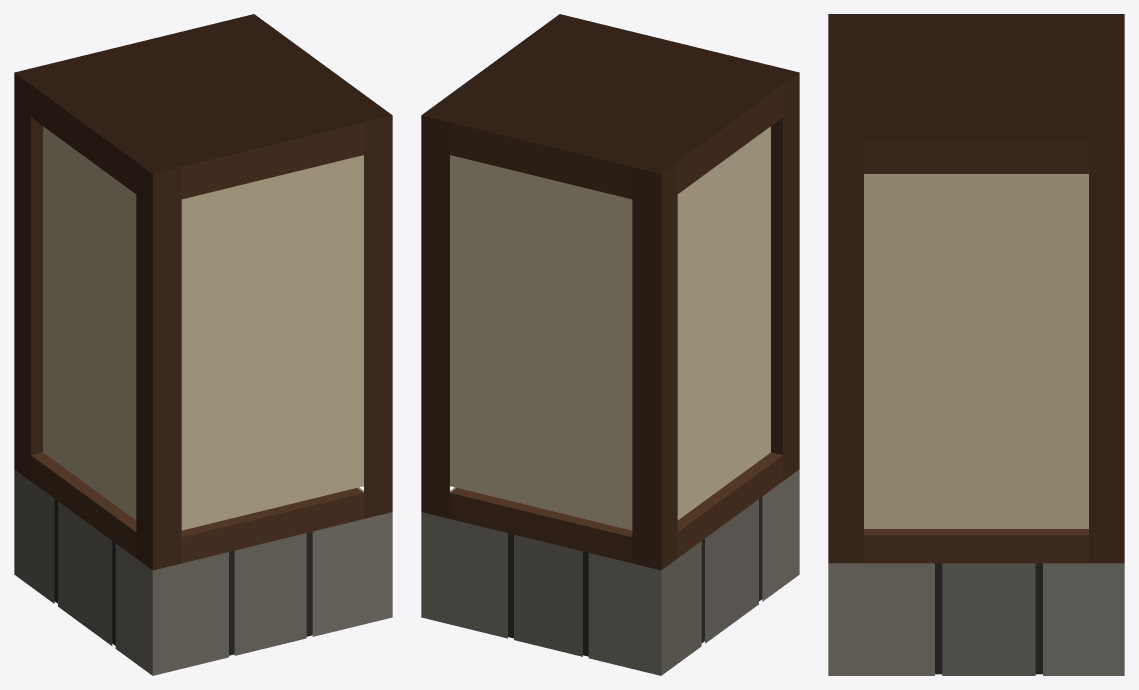
File: tile_house_wall_0.glb
3 renders of one model, left to right at view 1: azimuth 30°, elevation 25°; view 2: azimuth 150°, elevation 25°; view 3: azimuth 270°, elevation 25°, orthographic. The views are drawn at different scales.
Visible parts, largest first — view 1: tile_house_wall_0; view 2: tile_house_wall_0; view 3: tile_house_wall_0.
Boxes of the visible parts, x1,y1,x2,y2 form: tile_house_wall_0: (14, 14, 392, 675); tile_house_wall_0: (421, 14, 799, 675); tile_house_wall_0: (828, 14, 1124, 675).
Size of the model in its own units: 1 by 2 by 1.
